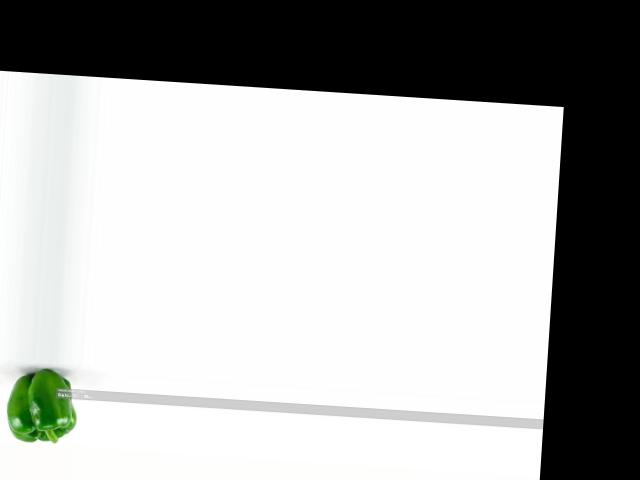bell_pepper: (1, 363, 78, 448)
